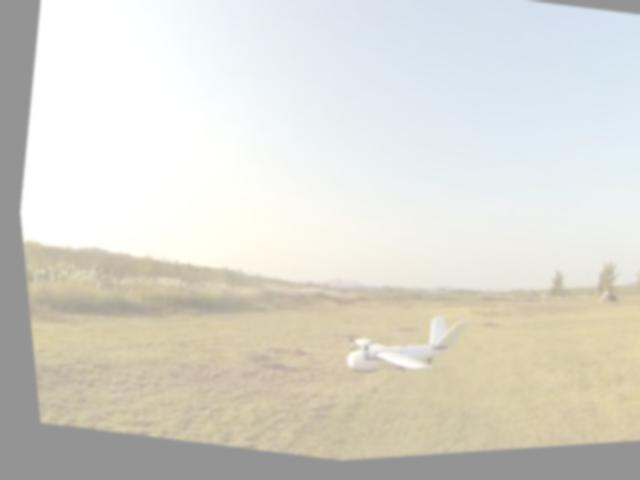uav: (317, 294, 474, 410)
